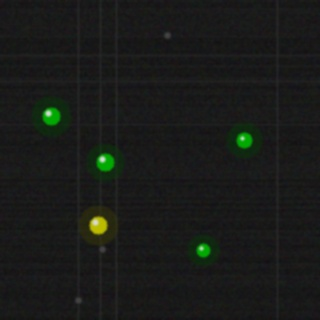green_normal: (94, 151, 116, 173), (40, 105, 62, 127), (234, 130, 254, 150), (194, 241, 212, 259)
yellow_warning: (87, 214, 109, 236)
